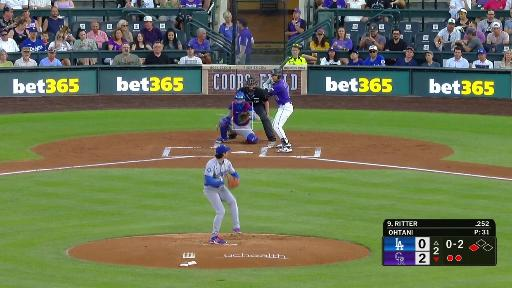pitcher: (203, 146, 246, 245)
